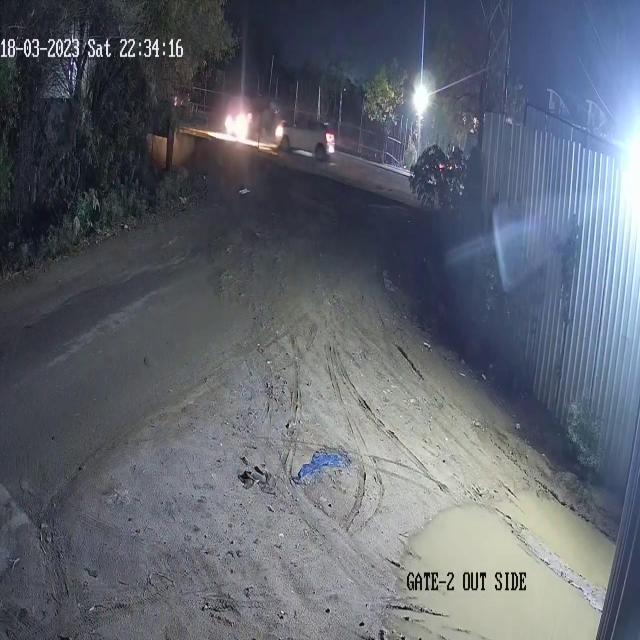accident: (224, 89, 337, 168)
